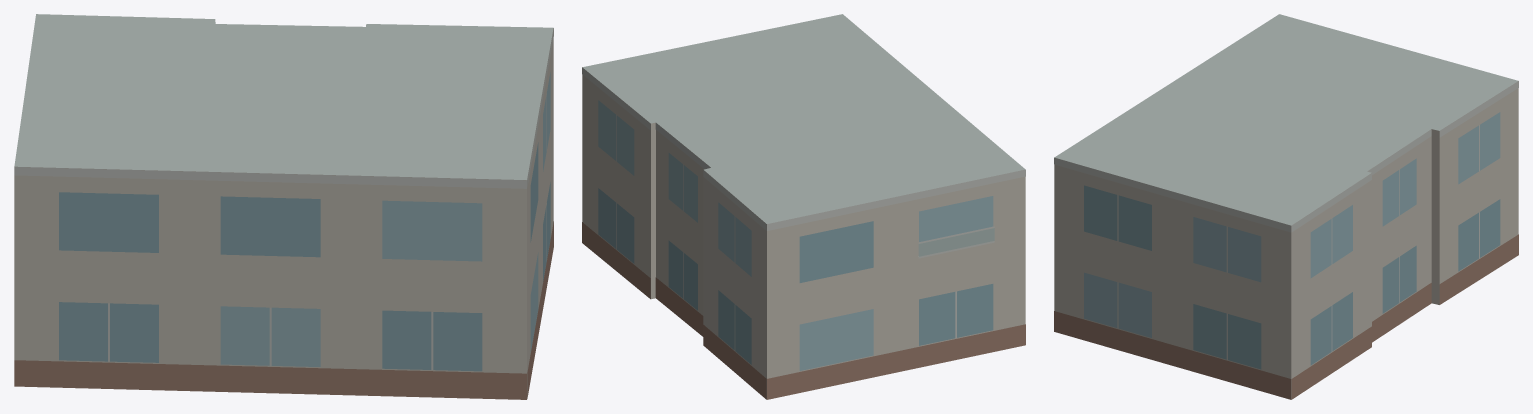
The model's file is survey-upis-32920560.glb.
The picture shows the model from 3 angles, left to right: view 1: azimuth 30°, elevation 25°; view 2: azimuth 150°, elevation 25°; view 3: azimuth 270°, elevation 25°; orthographic projection. The views are drawn at different scales.
Parts seen in each view (by area): view 1: survey-upis-32920560.tmp; view 2: survey-upis-32920560.tmp; view 3: survey-upis-32920560.tmp.
Part boxes in pixels (x1,y1,x2,y2): survey-upis-32920560.tmp: (14,14,553,399); survey-upis-32920560.tmp: (582,14,1025,399); survey-upis-32920560.tmp: (1054,14,1518,399).
Bounding box in the file's own units: 15.9 × 6.1 × 14.75.
